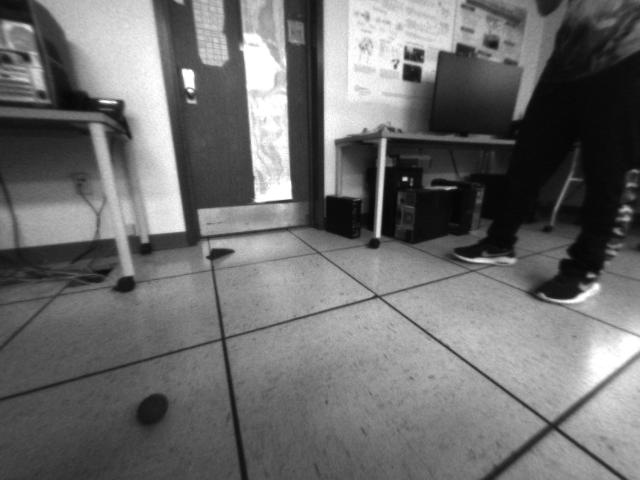dogtoy: (129, 387, 178, 430)
